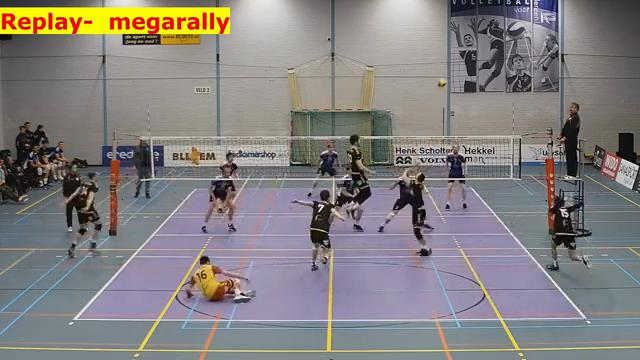alzata: (397, 165, 439, 261)
